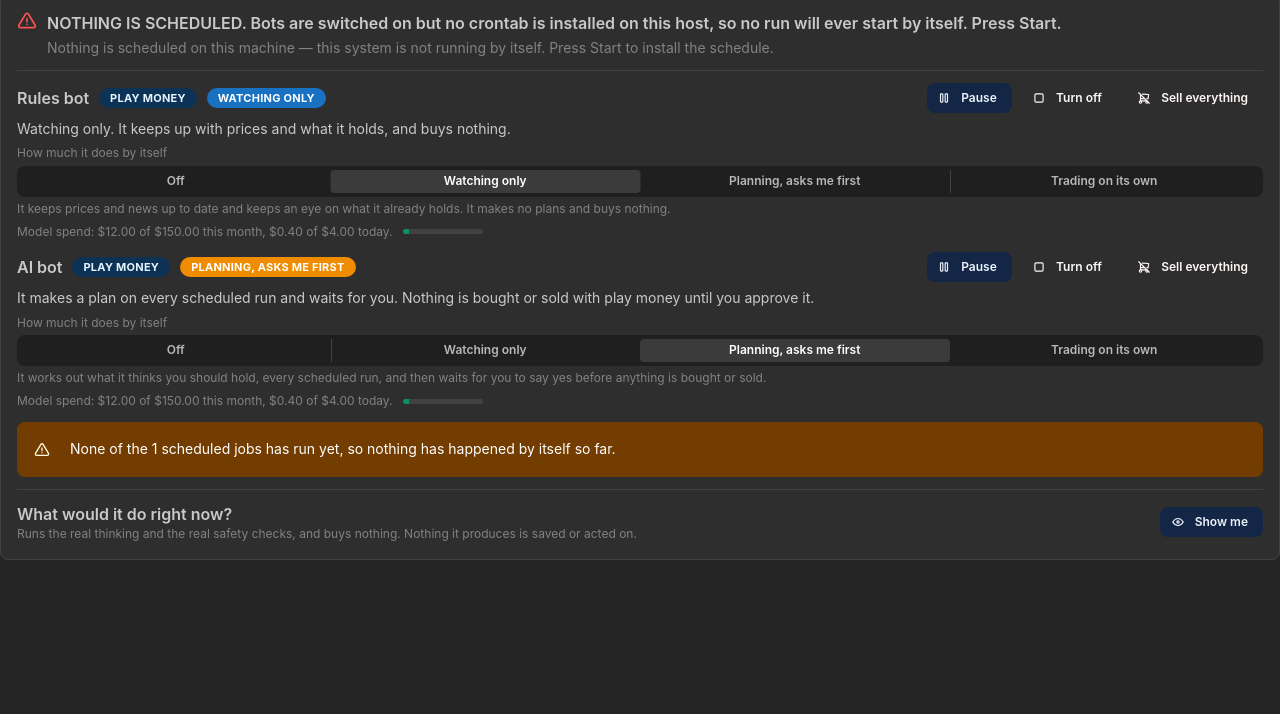
Test: what would it do right now › renders the plan it would make, and what the safety checks would do with it
The image size is (1280, 714).
Click the button with test id "preview-run". click: coordinates (1212, 522)
box: top-left (1160, 508), bottom-right (1263, 538)
(page scrolled)
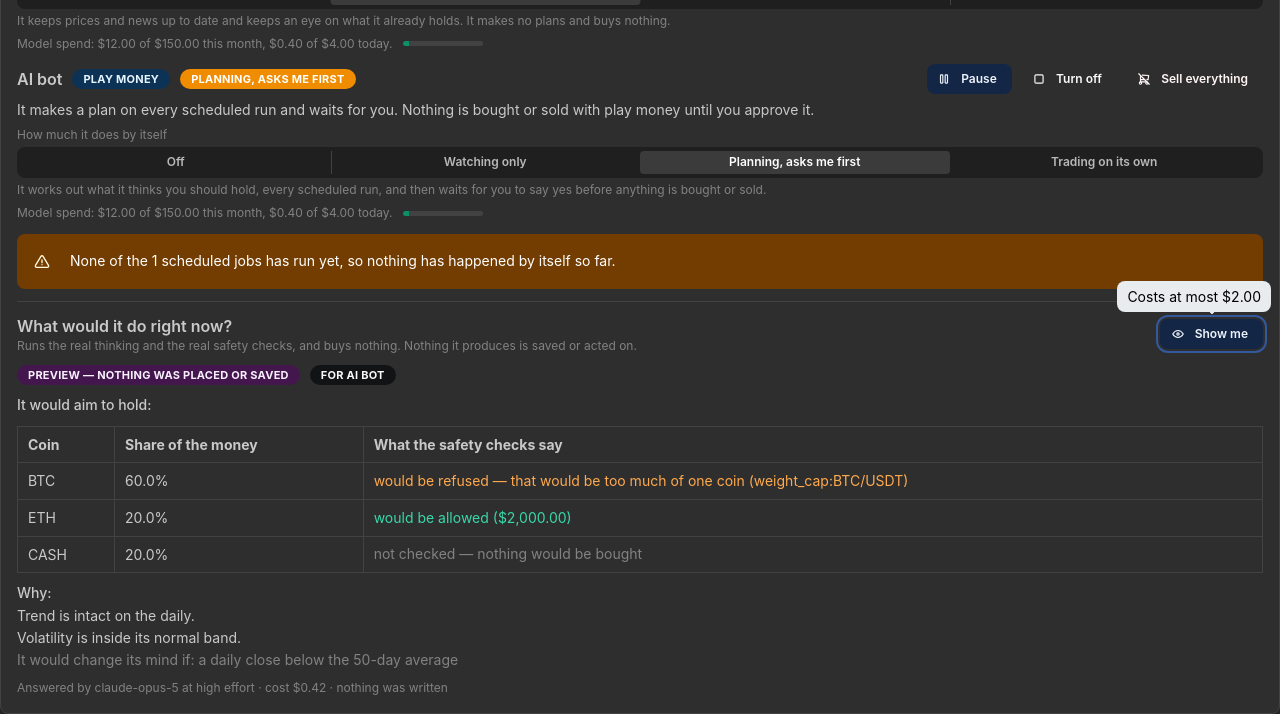
Result: the element with test id "preview-badge" shows "nothing was placed or saved" at top-left (28, 368), bottom-right (289, 382)
Result: the table with test id "preview-targets" shows "BTC" at top-left (28, 472), bottom-right (55, 489)
Result: the table with test id "preview-targets" shows "60.0%" at top-left (17, 426), bottom-right (1263, 573)
